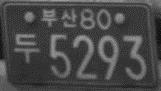0: (97, 8, 112, 30)
2: (73, 34, 97, 79)
3: (122, 34, 148, 80)
5: (47, 34, 71, 78)
8: (79, 7, 95, 29)
9: (98, 34, 119, 80)
두: (12, 33, 40, 63)
부산_O: (42, 7, 77, 27)
